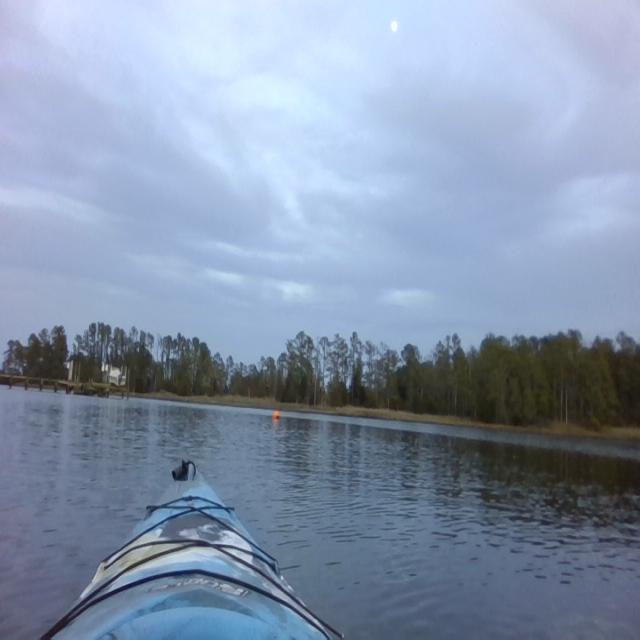Buoy: (272, 406, 282, 424)
